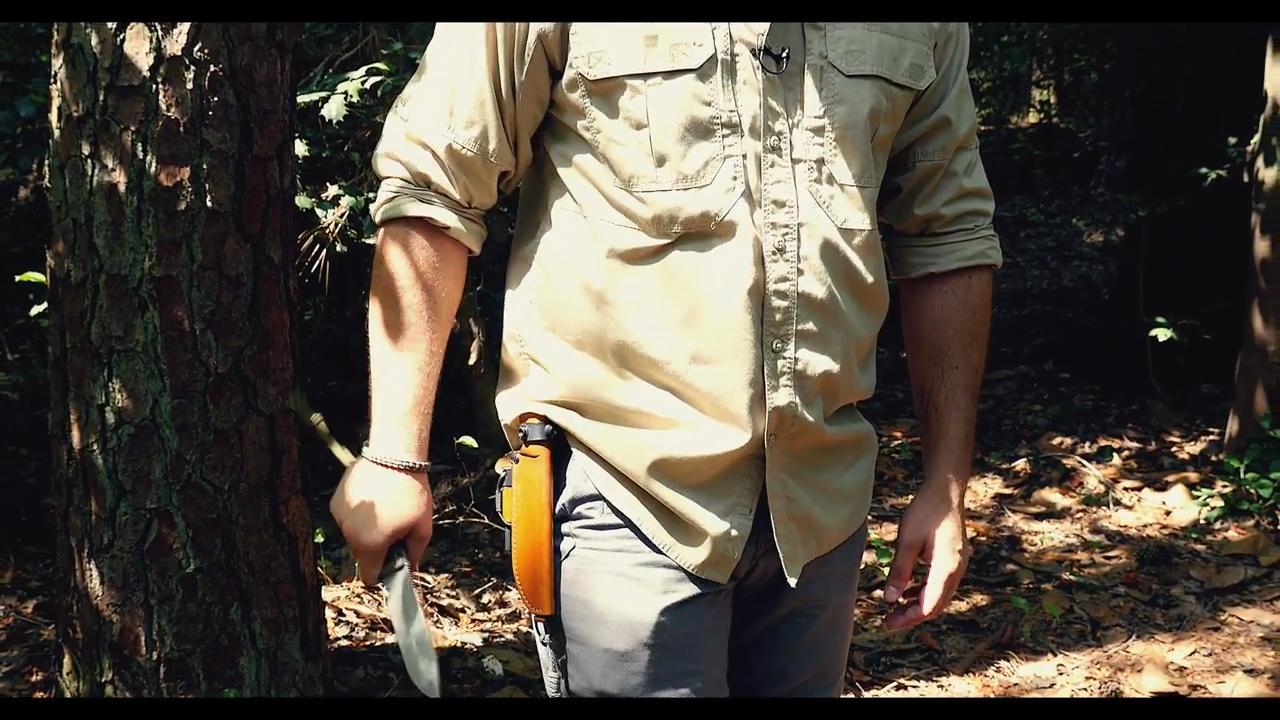knife: (334, 511, 449, 709)
